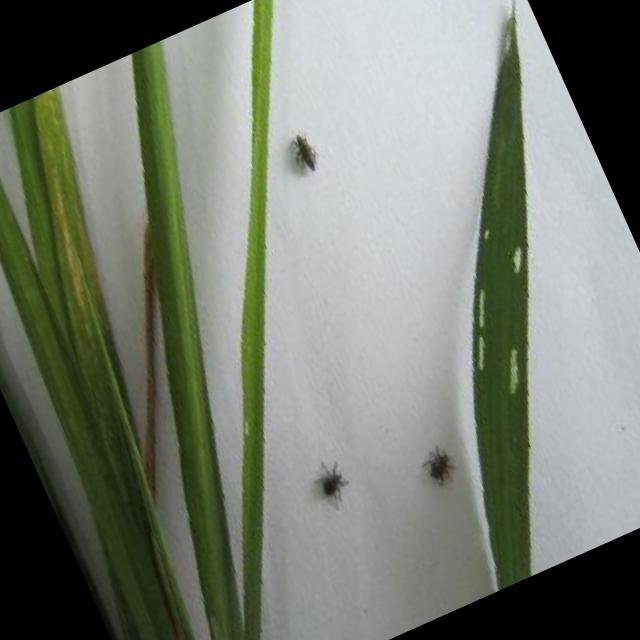rice-bug: (418, 438, 463, 490), (311, 458, 355, 509), (288, 128, 324, 174)
